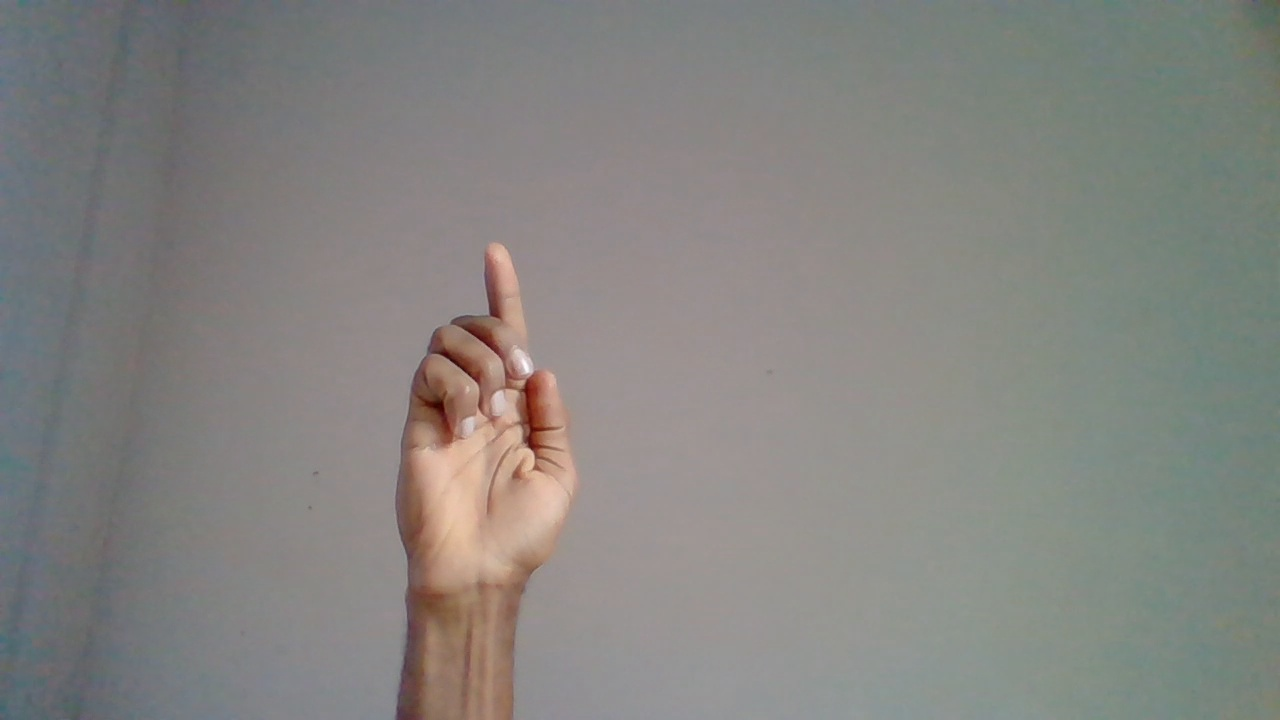qe: (397, 236, 579, 676)
